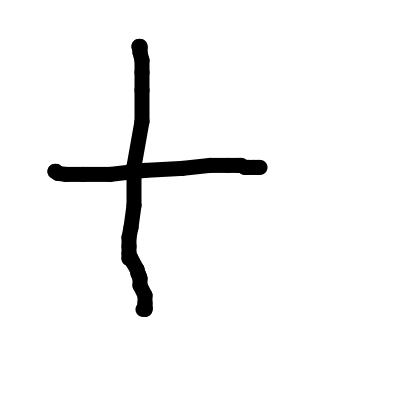plus: (48, 38, 267, 317)
